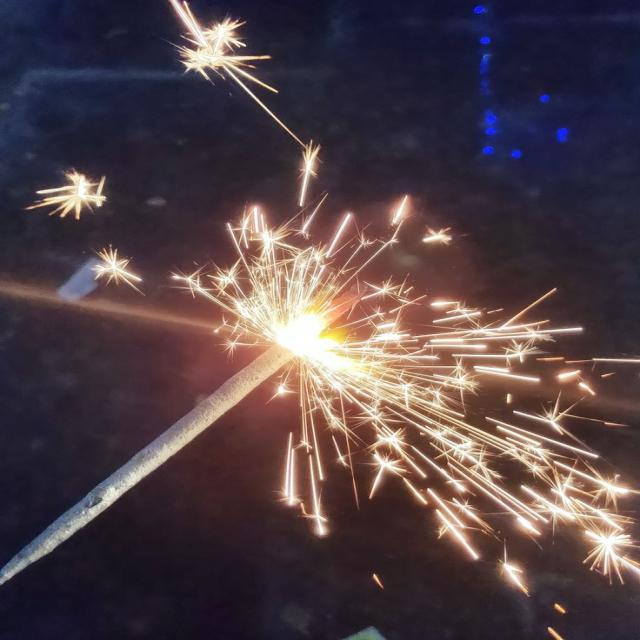fire: (270, 309, 368, 374)
